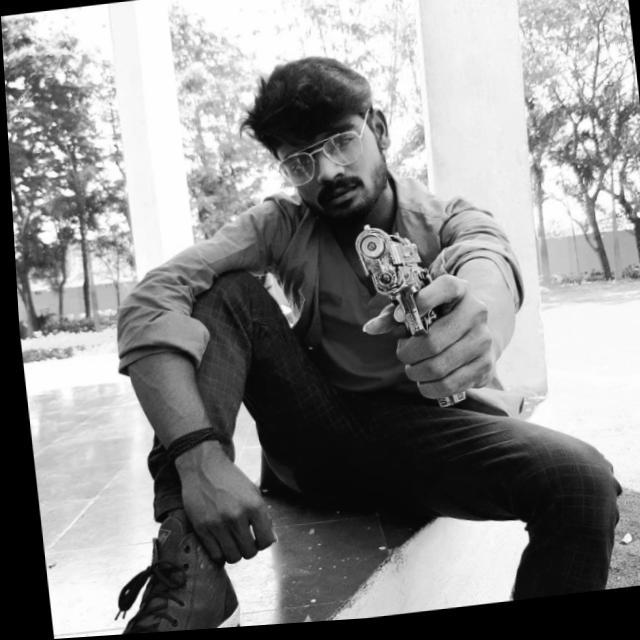weapon: (344, 214, 470, 428)
